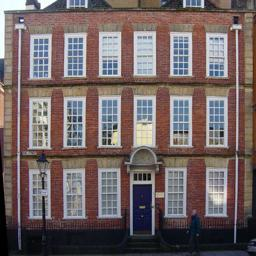building: (3, 9, 246, 235)
